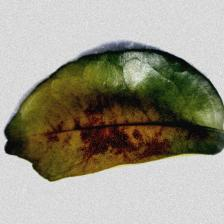black spot: (38, 88, 164, 160)
